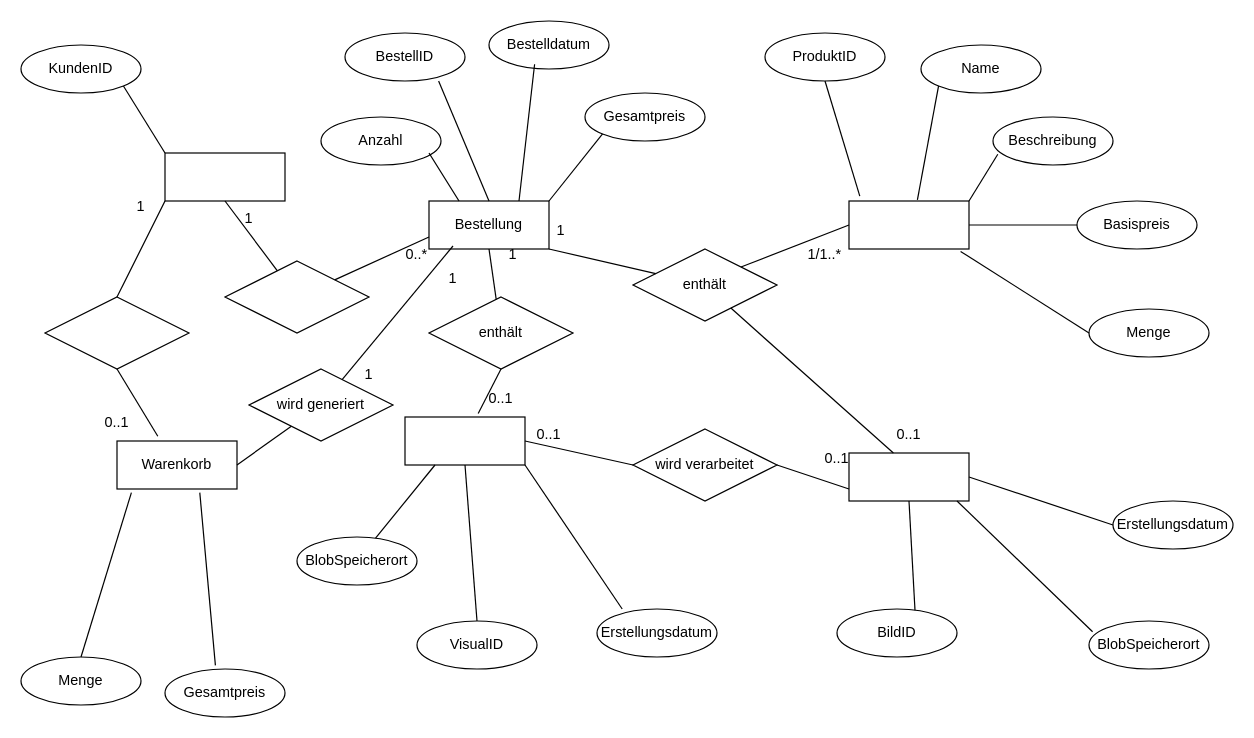
Some shapes in this 1254 by 738 pixel diagram are drawn without their labels. The shapes that lost their labels are listed below. From the top down, each one's centre as x and y in pixels, then its label:
point 224,176: Kunde
point 908,224: Produkt
point 296,296: gibt auf
point 116,332: hat
point 464,440: Visualisierung
point 908,476: Bild
